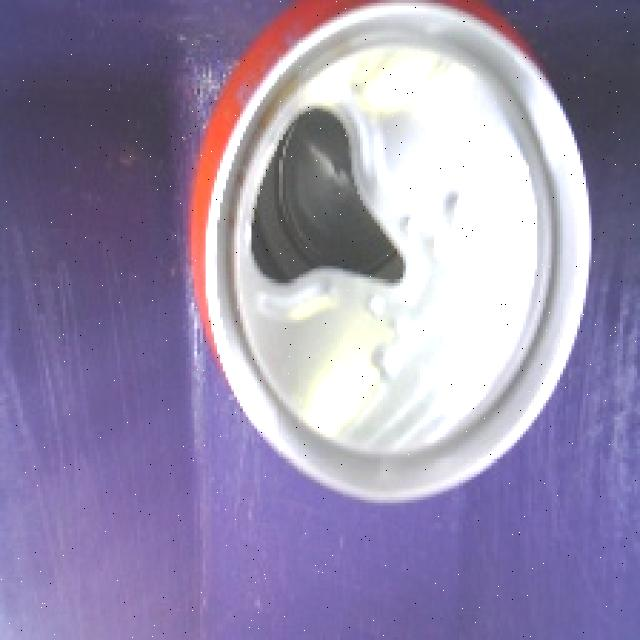metal: (169, 0, 613, 520)
